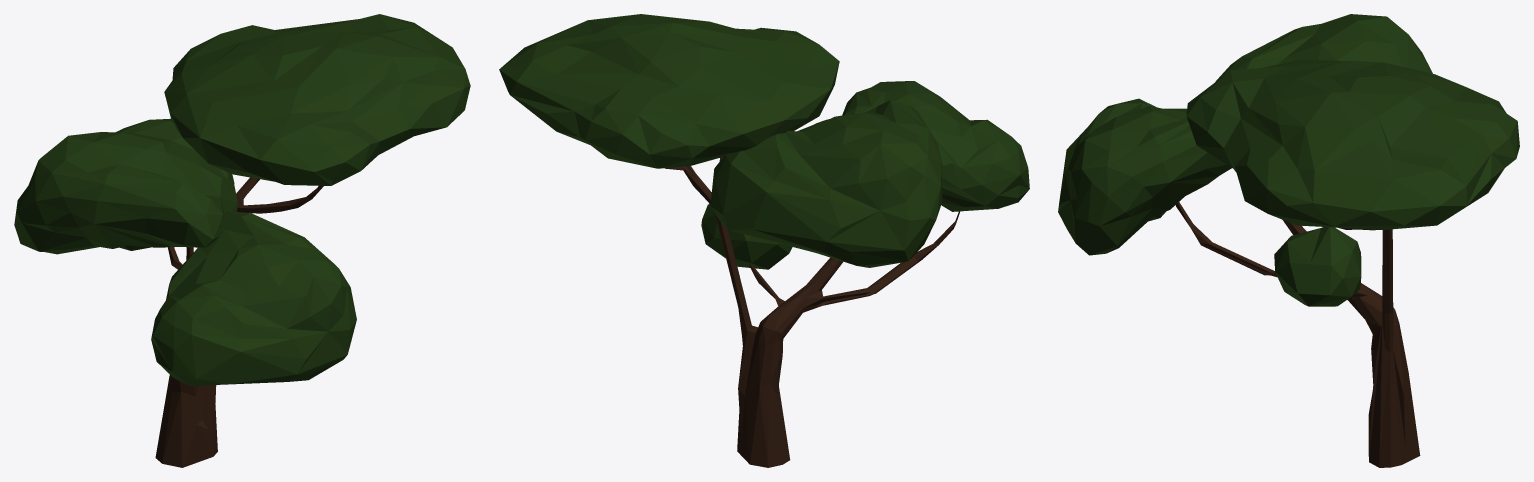
Rendered from SM_tree_jungle_11.fbx.
3 views of the same model, side by side, from view 1: azimuth 30°, elevation 25°; view 2: azimuth 150°, elevation 25°; view 3: azimuth 270°, elevation 25° (orthographic). The views are drawn at different scales.
Parts seen in each view (by area): view 1: Object135; view 2: Object135; view 3: Object135.
Boxes of the visible parts, box(x1,y1,x2,y2) form: Object135: box(14, 14, 470, 467); Object135: box(499, 14, 1029, 467); Object135: box(1058, 14, 1519, 467).
Size of the model in its own units: 375 by 334 by 326.
